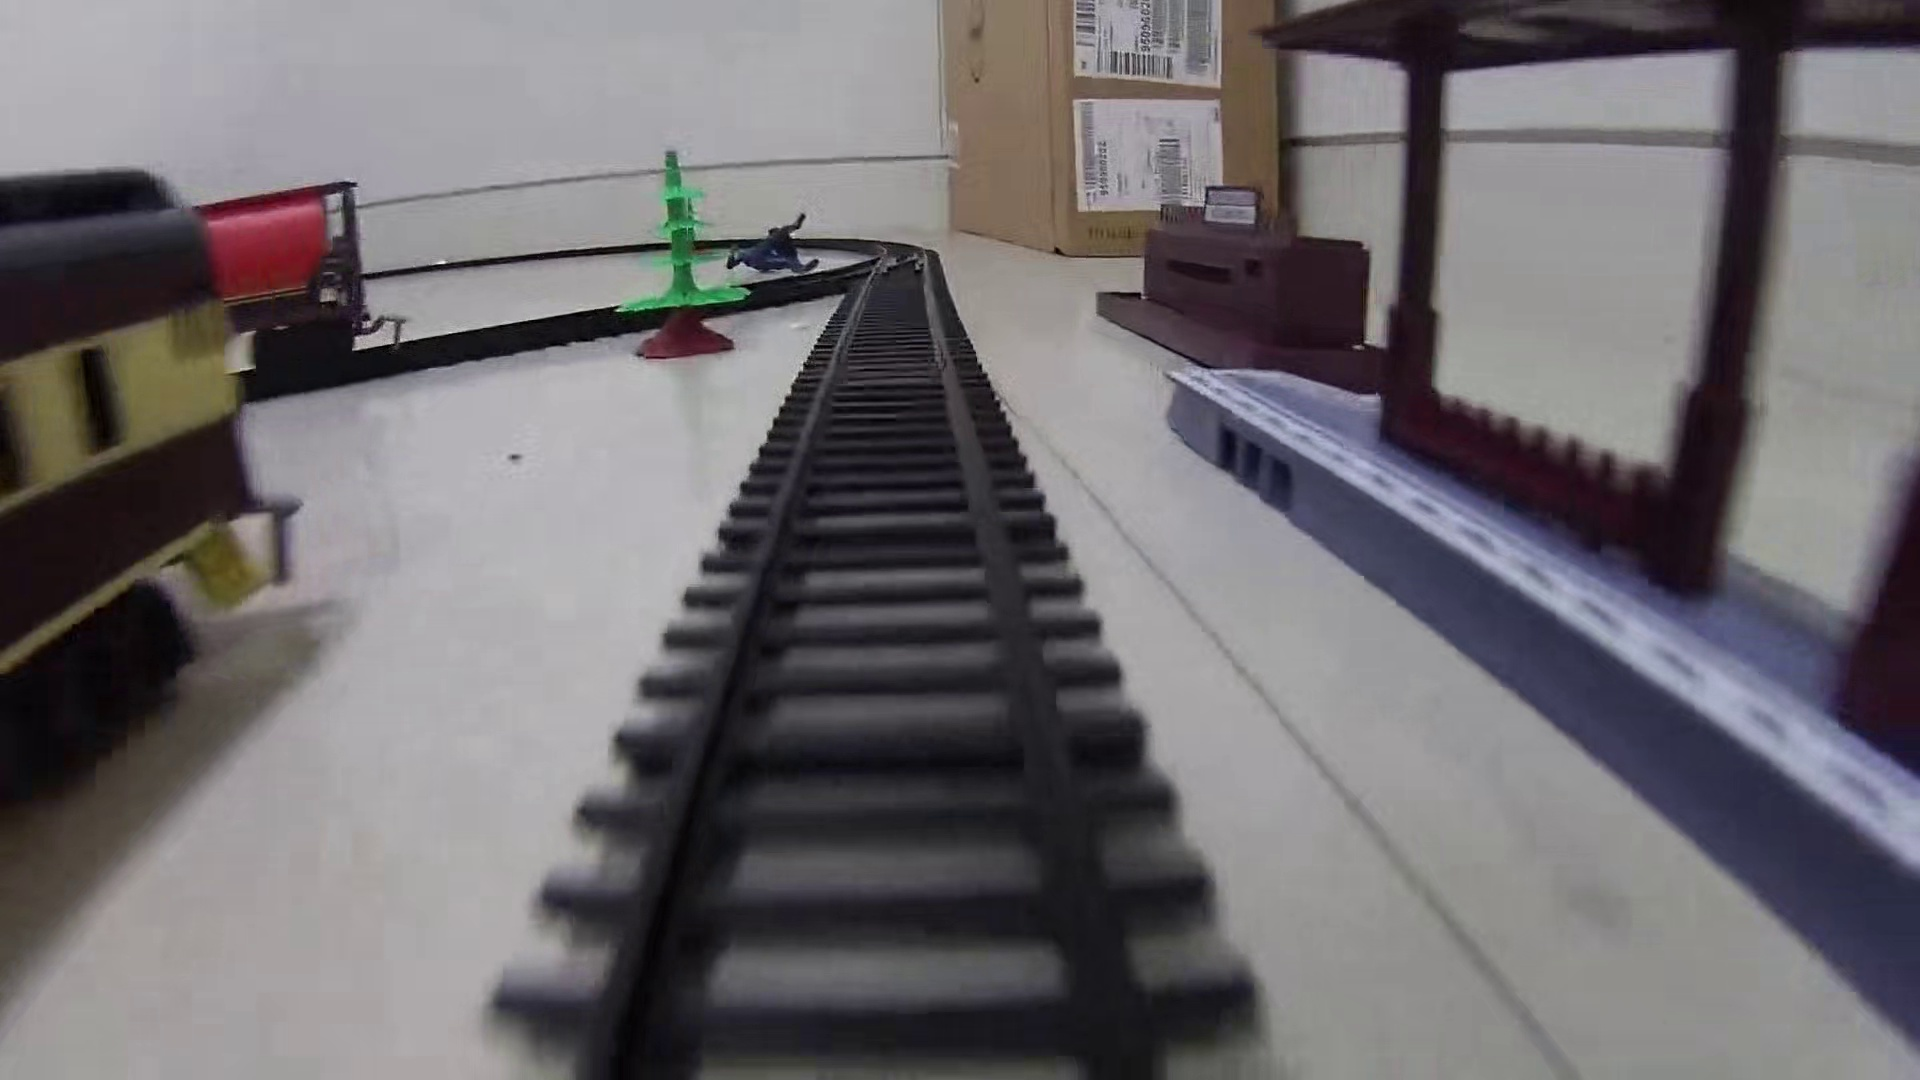people: (721, 207, 821, 280)
tree: (616, 149, 751, 361)
